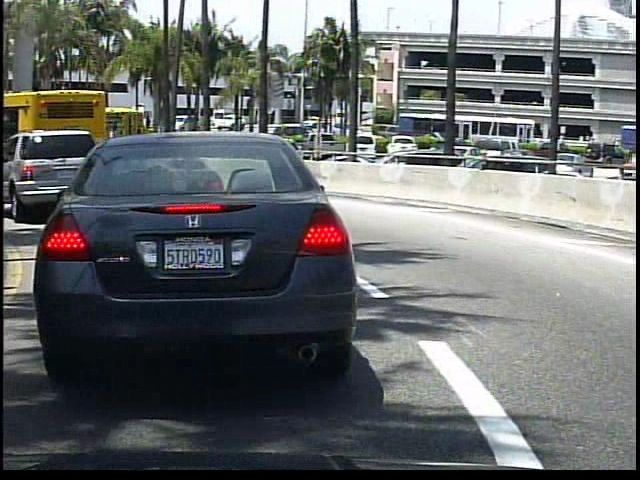car: (25, 124, 356, 381), (385, 134, 415, 152)
